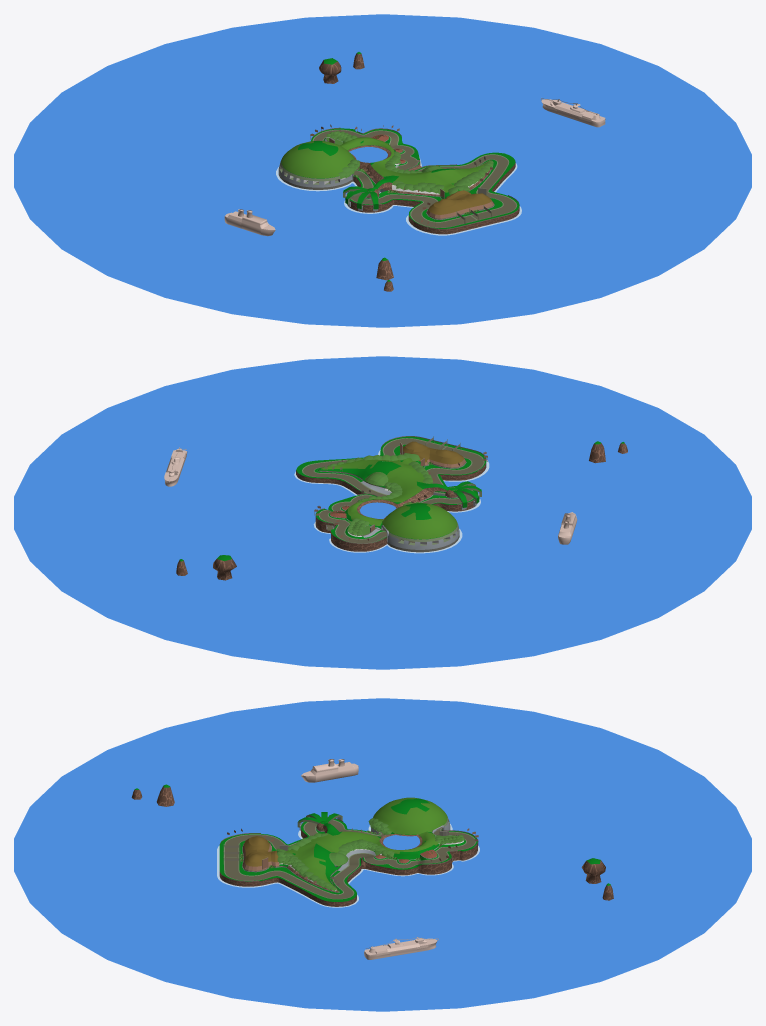
The model's file is Yoshi+Circuit.fbx.
3 renders of one model, top to bottom at view 1: azimuth 30°, elevation 25°; view 2: azimuth 150°, elevation 25°; view 3: azimuth 270°, elevation 25°, orthographic.
Visible parts, largest first — view 1: default_object; view 2: default_object; view 3: default_object.
Part boxes in pixels (x1,y1,x2,y2): default_object: (14, 14, 751, 327); default_object: (14, 356, 751, 669); default_object: (14, 698, 751, 1011).
Bounding box in the file's own units: 6583236 × 282362 × 6547276.
